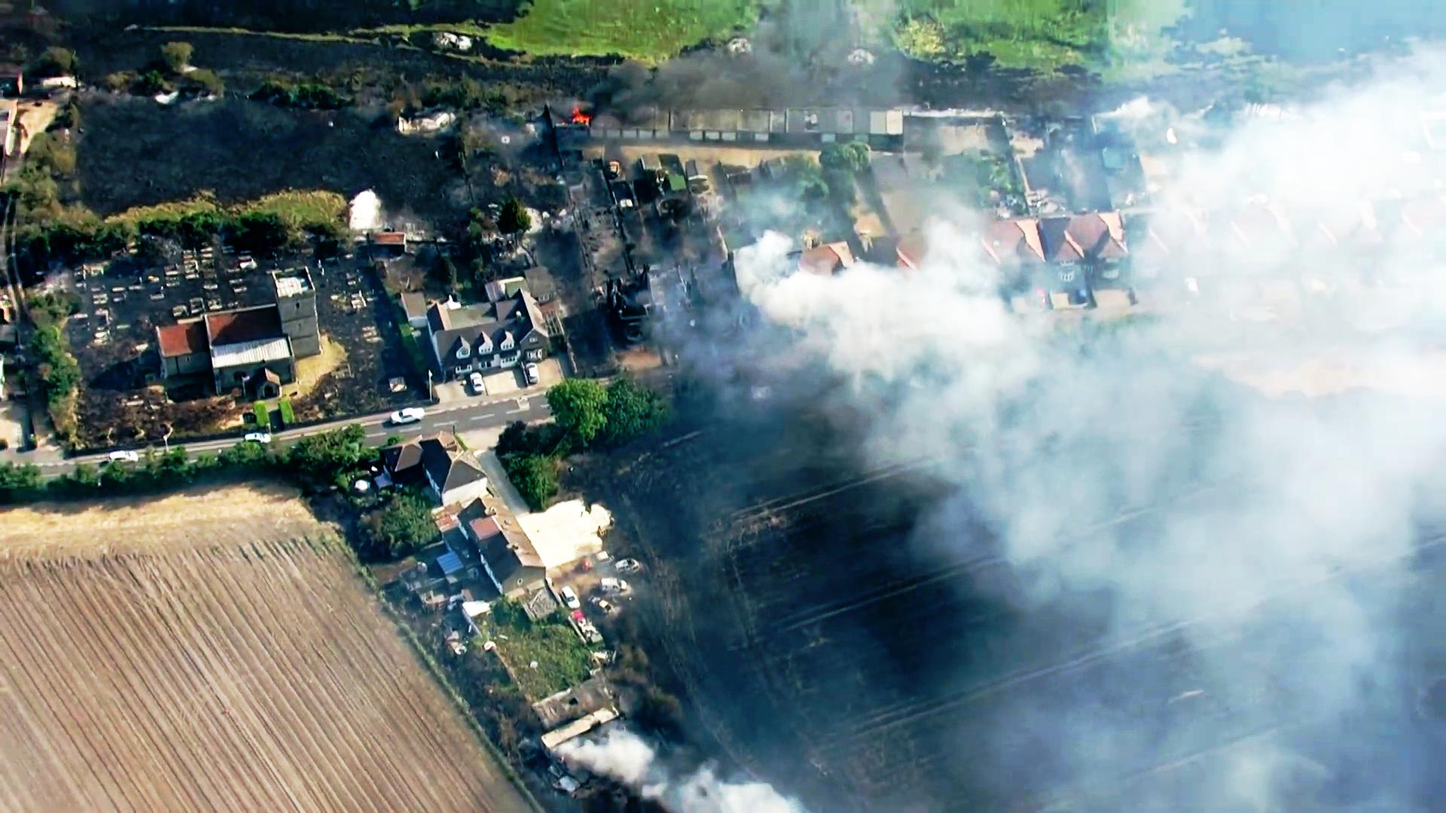smoke: (940, 330, 1446, 583), (759, 232, 977, 360)
